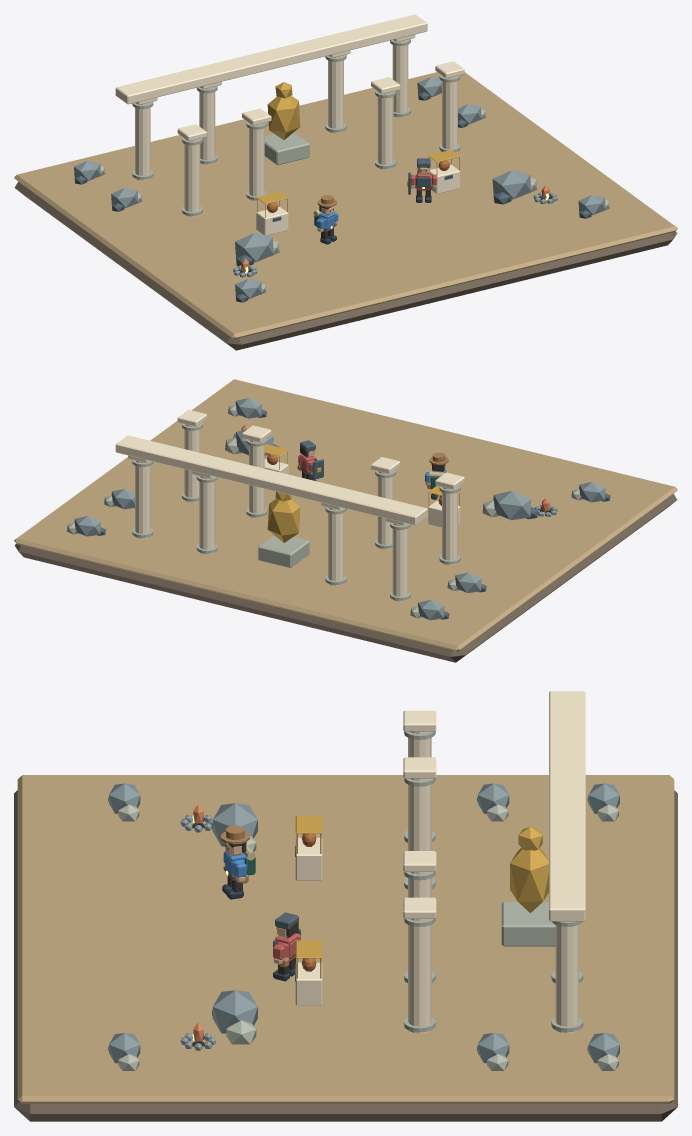
Rendered from world-temple.glb.
3 renders of one model, top to bottom at view 1: azimuth 30°, elevation 25°; view 2: azimuth 150°, elevation 25°; view 3: azimuth 270°, elevation 25°, orthographic. The views are drawn at different scales.
Parts seen in each view (by area): view 1: terrain-top, terrain-stratum, temple-lintel, marble-column, marble-column.004, sculpture.001, plinth.001, marble-column.005, marble-column.001, marble-column.002, marble-column.006, marble-column.003 (+5 smaller); view 2: terrain-top, terrain-stratum, temple-lintel, plinth.001, marble-column.005, marble-column.001, sculpture.001, marble-column, marble-column.007, marble-column.003, rock.003, marble-column.004 (+7 smaller); view 3: terrain-top, terrain-stratum, temple-lintel, marble-column.006, marble-column.007, plinth.001, sculpture.001, marble-column.002, rock.006, rock.003, display-plinth.002, display-plinth.001 (+10 smaller).
Part boxes in pixels (x1,y1,x2,y2): terrain-top: (14, 72, 677, 339); terrain-stratum: (14, 182, 677, 350); temple-lintel: (115, 14, 427, 104); marble-column: (184, 138, 200, 216); marble-column.004: (377, 91, 393, 169); sculpture.001: (267, 95, 300, 139); plinth.001: (264, 132, 309, 165); marble-column.005: (328, 55, 343, 133); marble-column.001: (135, 102, 150, 180); marble-column.002: (249, 123, 264, 201); marble-column.006: (442, 76, 457, 152); marble-column.003: (199, 87, 215, 164); terrain-top: (14, 379, 677, 651); terrain-stratum: (14, 494, 677, 662); temple-lintel: (115, 435, 427, 525); plinth.001: (258, 535, 309, 567); marble-column.005: (199, 476, 215, 554); marble-column.001: (392, 523, 408, 601); sculpture.001: (267, 498, 300, 542); marble-column: (442, 487, 457, 565); marble-column.007: (135, 460, 150, 538); marble-column.003: (328, 508, 343, 585); rock.003: (493, 491, 531, 520); marble-column.004: (249, 440, 264, 518); terrain-top: (17, 775, 674, 1103); terrain-stratum: (14, 790, 677, 1121); temple-lintel: (549, 691, 585, 921); marble-column.006: (408, 919, 431, 1033); marble-column.007: (555, 925, 578, 1033); plinth.001: (501, 902, 555, 946); sculpture.001: (510, 848, 548, 913); marble-column.002: (408, 778, 431, 850); rock.006: (212, 990, 257, 1033); rock.003: (212, 803, 257, 846); display-plinth.002: (295, 962, 322, 1005); display-plinth.001: (295, 837, 322, 880).
Bounding box in the file's own units: 21 × 4.94 × 18.
